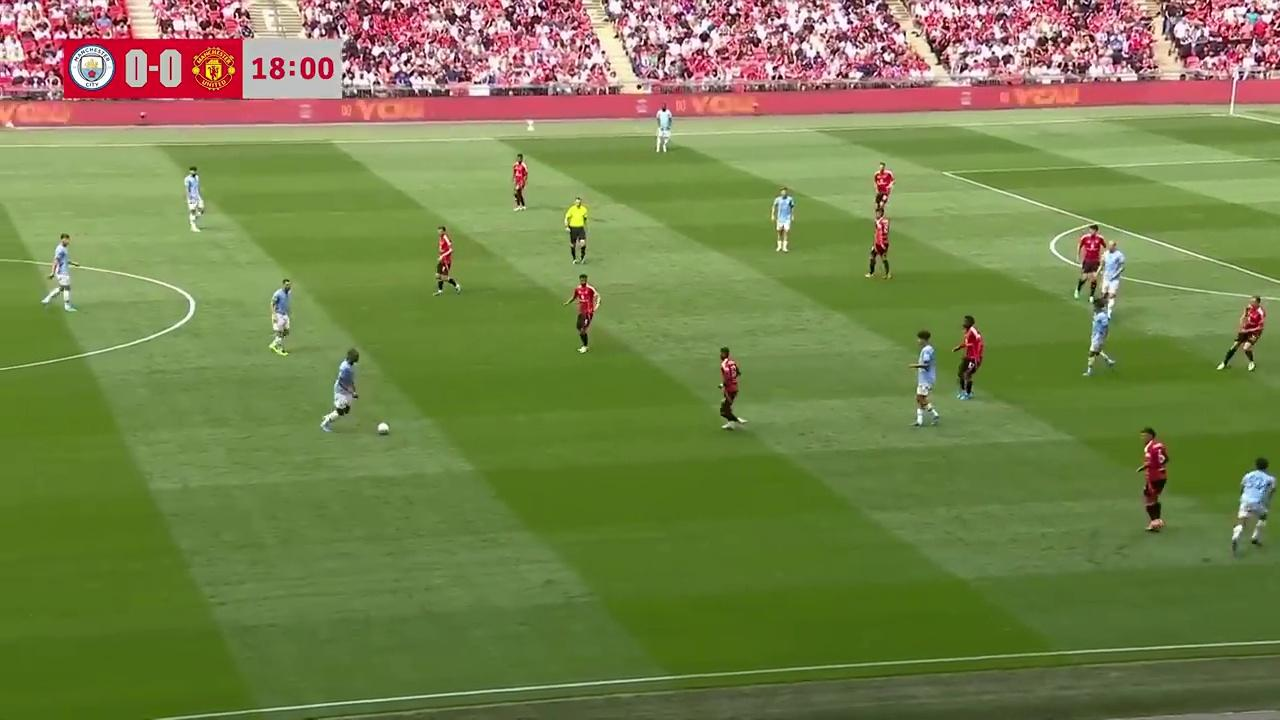ball: (375, 419, 390, 435)
player: (1229, 456, 1278, 555), (1217, 294, 1266, 372), (320, 348, 360, 433), (1136, 428, 1168, 532), (909, 330, 940, 428), (1081, 293, 1116, 377), (41, 234, 77, 313), (952, 314, 984, 401), (565, 274, 599, 353), (1074, 222, 1106, 299), (717, 347, 744, 430), (433, 226, 461, 296), (864, 212, 891, 280), (268, 278, 292, 354), (1098, 241, 1125, 307), (770, 187, 795, 253), (183, 166, 205, 232), (873, 162, 894, 216), (511, 154, 528, 211), (655, 106, 672, 154)
referee: (564, 196, 588, 263)
